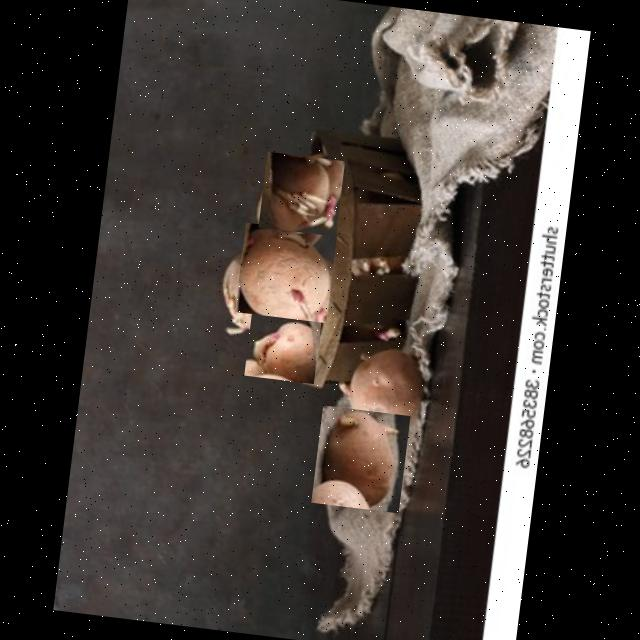Sprouted potato: (336, 330, 434, 443), (310, 405, 409, 513), (234, 222, 336, 323), (257, 151, 344, 236), (242, 314, 320, 384)
